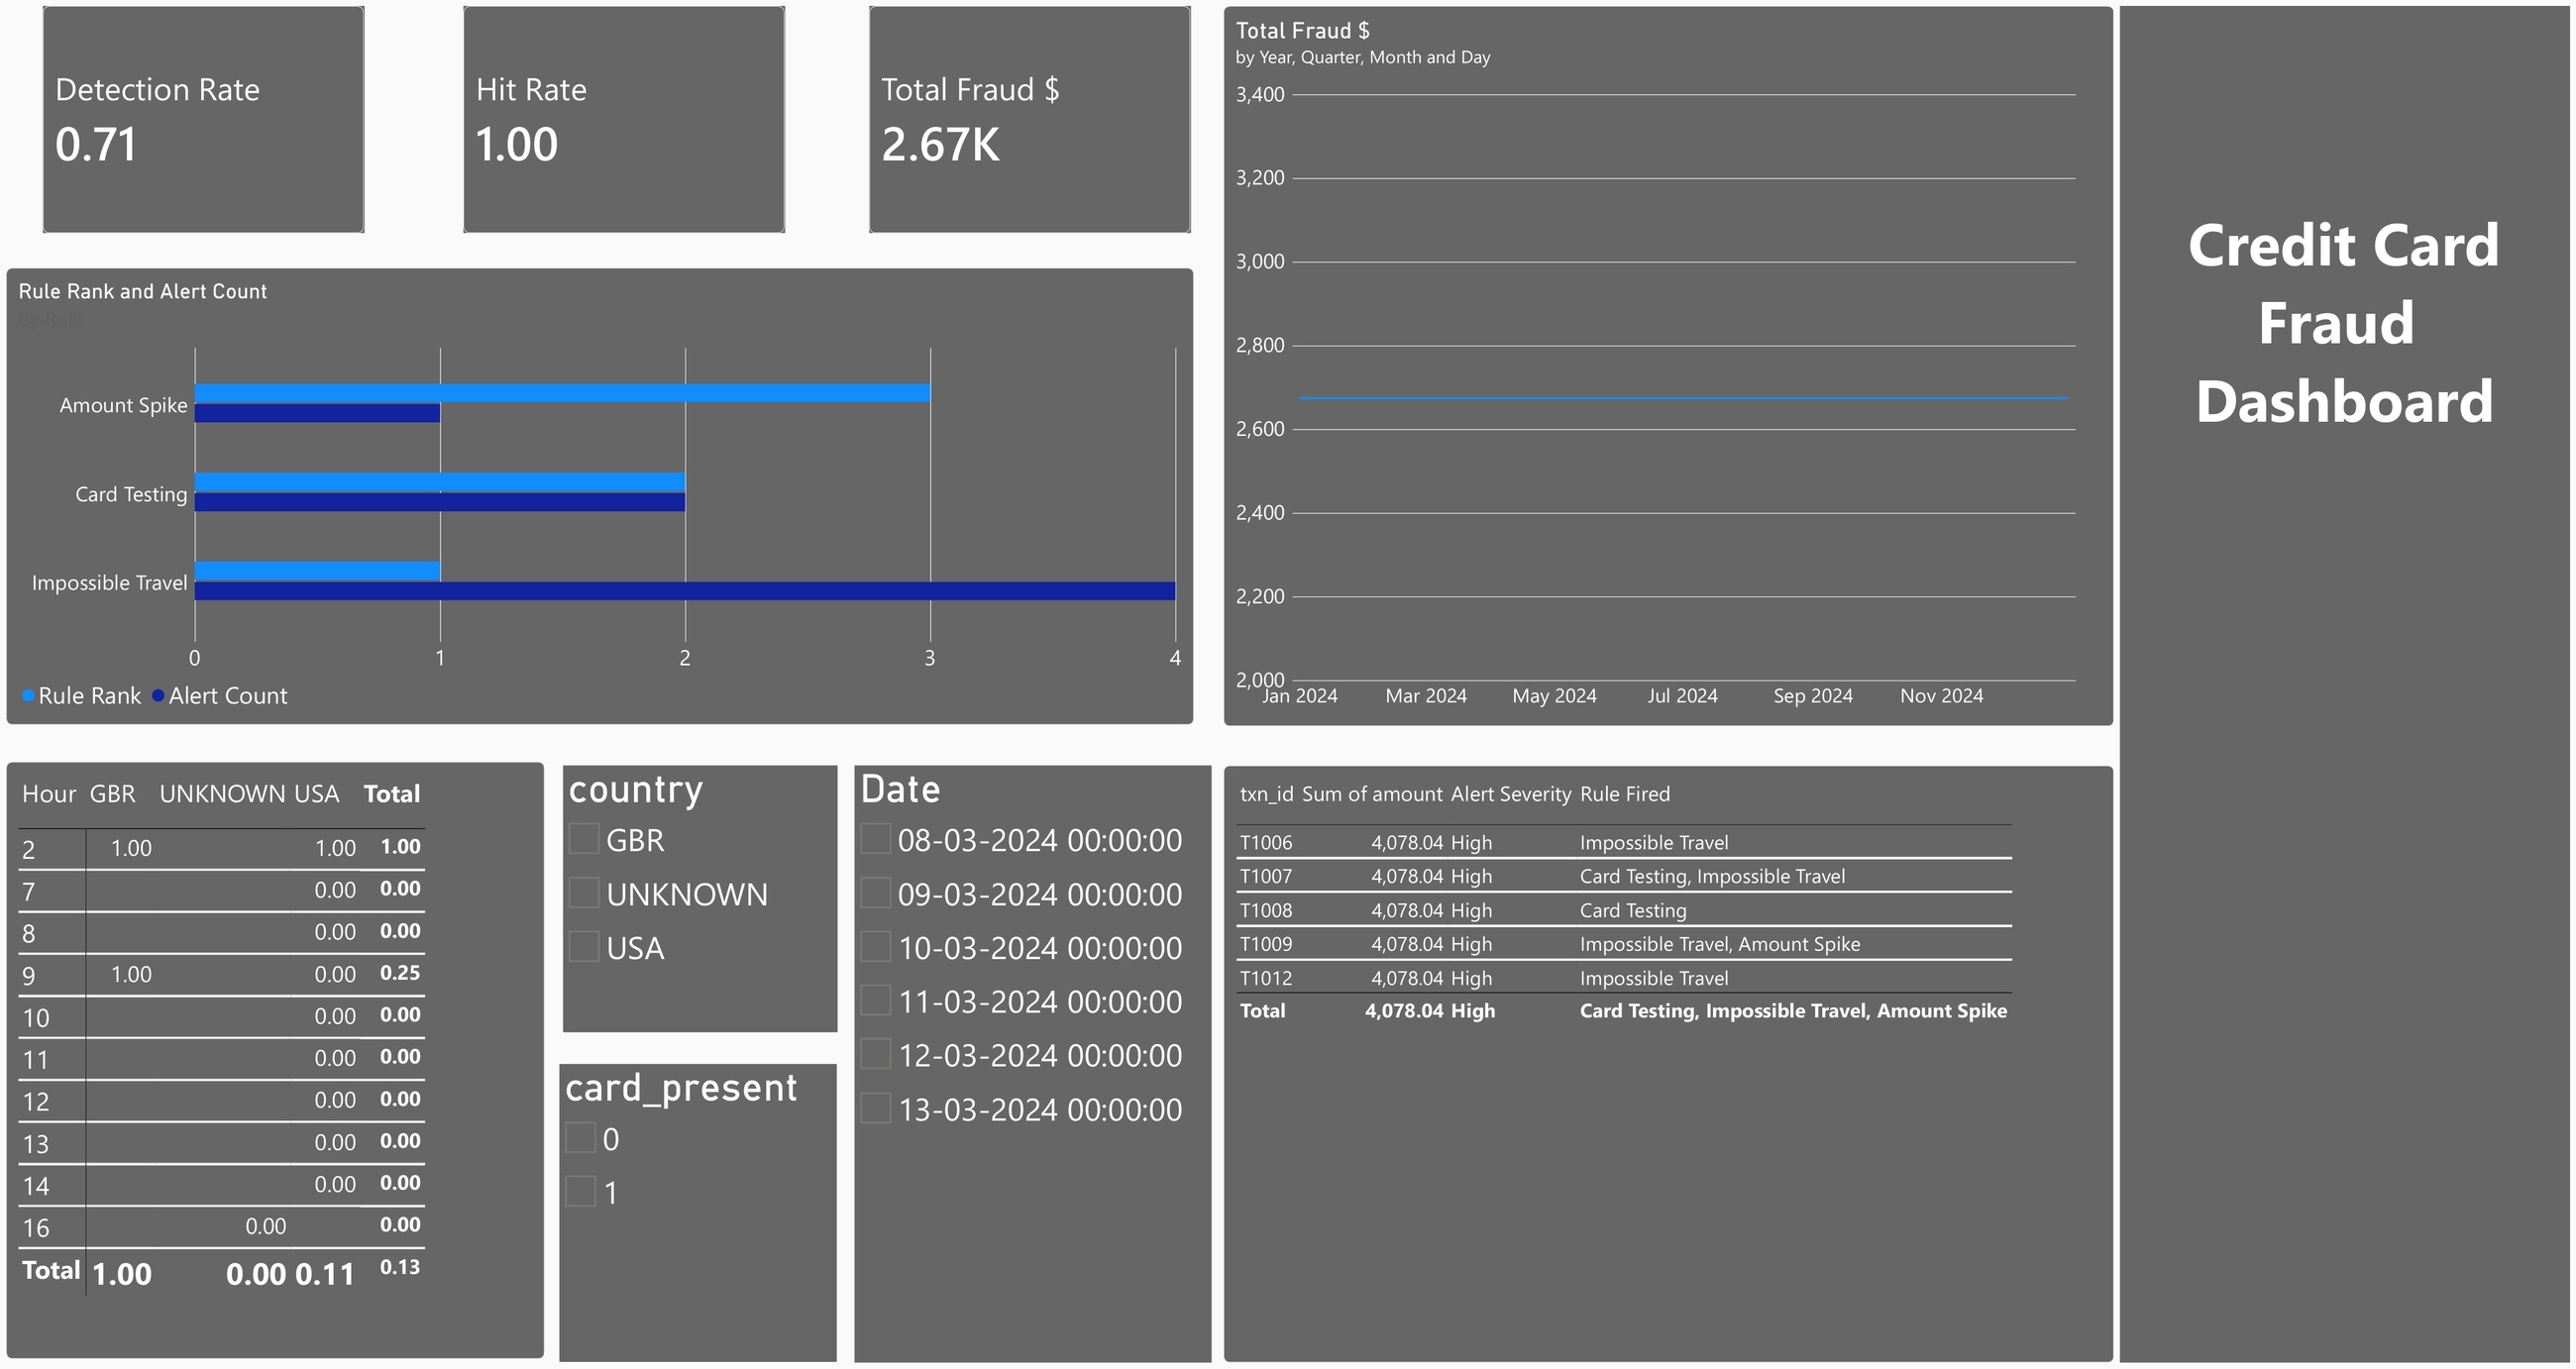

This screenshot's page, from the dashboard's own definition file:
{"tool":"powerbi","page":{"name":"Page 1","canvas":[3500,2000],"ordinal":0},"visuals":[{"type":"cardVisual","fields":{"Data":["Fraud_cleaned.Detection Rate"]},"box":[73.3,103.3,435.7,308.3],"z":0},{"type":"lineChart","fields":{"Y":["Fraud_cleaned.Total Fraud $"],"Category":["dim_date.Date.Variation.Date Hierarchy.Year","dim_date.Date.Variation.Date Hierarchy.Quarter","dim_date.Date.Variation.Date Hierarchy.Month","dim_date.Date.Variation.Date Hierarchy.Day"]},"box":[1673.3,103.3,1206.7,976.7],"z":1000},{"type":"clusteredBarChart","fields":{"Category":["rule_alerts.Rule"],"Y":["Fraud_cleaned.Rule Rank","Fraud_cleaned.Alert Count"]},"box":[23.3,460,1610,620],"z":2000},{"type":"pivotTable","fields":{"Columns":["Fraud_cleaned.country"],"Values":["Fraud_cleaned.Fraud Rate %"],"Rows":["Fraud_cleaned.Hour"]},"box":[24,1132,730,810],"z":3000},{"type":"tableEx","fields":{"Values":["rule_alerts.txn_id","Sum(Fraud_cleaned.amount)","Fraud_cleaned.Alert Severity","Fraud_cleaned.Rule Fired"]},"box":[1673.3,1133.3,1206.7,810],"z":4000},{"type":"cardVisual","fields":{"Data":["Fraud_cleaned.Hit Rate"]},"box":[645,105,435.7,308.3],"z":5000},{"type":"cardVisual","fields":{"Data":["Fraud_cleaned.Total Fraud $"]},"box":[1196.7,103.3,435.7,308.3],"z":6000},{"type":"textbox","box":[2890,103.3,610,1840],"z":7000},{"type":"slicer","fields":{"Values":["Fraud_cleaned.country"]},"box":[780,1134,372,362],"z":8000},{"type":"slicer","fields":{"Values":["Fraud_cleaned.card_present"]},"box":[776,1540,376,404],"z":9000},{"type":"slicer","fields":{"Values":["dim_date.Date"]},"box":[1174,1134,484,810],"z":10000}]}

Visuals, with their boxes in screenshot pixels (x1, y1, x2, y2):
cardVisual - Fraud_cleaned.Detection Rate: bbox(73, 8, 389, 232)
lineChart - Fraud_cleaned.Total Fraud $ x dim_date.Date.Variation.Date Hierarchy.Year: bbox(1234, 8, 2109, 716)
clusteredBarChart - rule_alerts.Rule x Fraud_cleaned.Rule Rank: bbox(37, 266, 1205, 716)
pivotTable - Fraud_cleaned.country x Fraud_cleaned.Fraud Rate %: bbox(38, 754, 567, 1341)
tableEx - rule_alerts.txn_id x Sum(Fraud_cleaned.amount): bbox(1234, 755, 2109, 1342)
cardVisual - Fraud_cleaned.Hit Rate: bbox(487, 9, 804, 233)
cardVisual - Fraud_cleaned.Total Fraud $: bbox(888, 8, 1204, 232)
textbox: bbox(2116, 8, 2559, 1342)
slicer - Fraud_cleaned.country: bbox(586, 755, 856, 1017)
slicer - Fraud_cleaned.card_present: bbox(583, 1050, 856, 1342)
slicer - dim_date.Date: bbox(872, 755, 1223, 1342)
